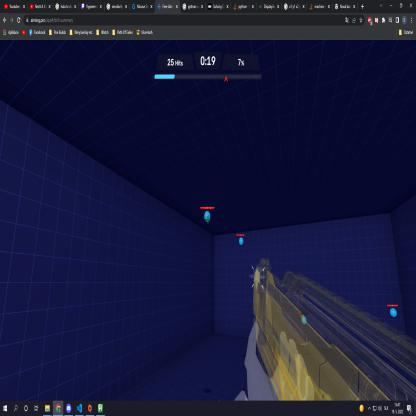sphere: (204, 210, 211, 223), (390, 308, 398, 318), (301, 316, 307, 325), (239, 237, 244, 246)
